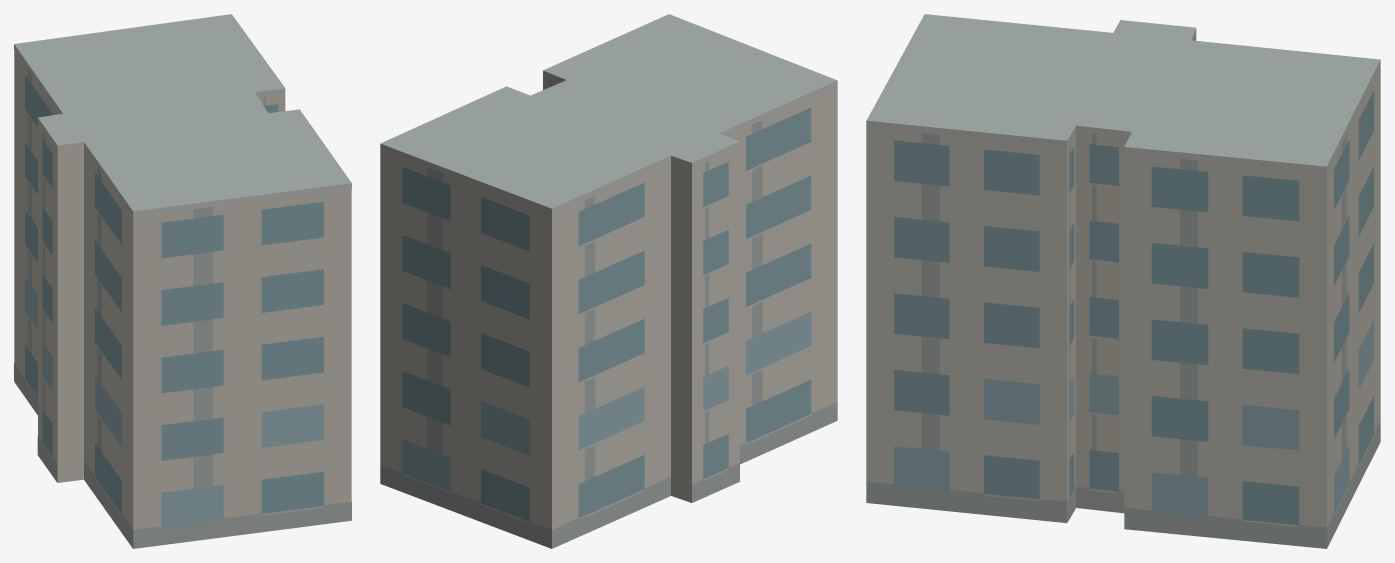
The model's file is survey-upis-32676886.glb.
3 renders of one model, left to right at view 1: azimuth 30°, elevation 25°; view 2: azimuth 150°, elevation 25°; view 3: azimuth 270°, elevation 25°, orthographic. The views are drawn at different scales.
Visible parts, largest first — view 1: survey-upis-32676886.tmp; view 2: survey-upis-32676886.tmp; view 3: survey-upis-32676886.tmp.
Boxes of the visible parts, bbox=[...] form: survey-upis-32676886.tmp: bbox=[14, 14, 351, 548]; survey-upis-32676886.tmp: bbox=[380, 14, 837, 548]; survey-upis-32676886.tmp: bbox=[866, 14, 1380, 548].
Bounding box in the file's own units: 11.91 × 13.9 × 16.95.
